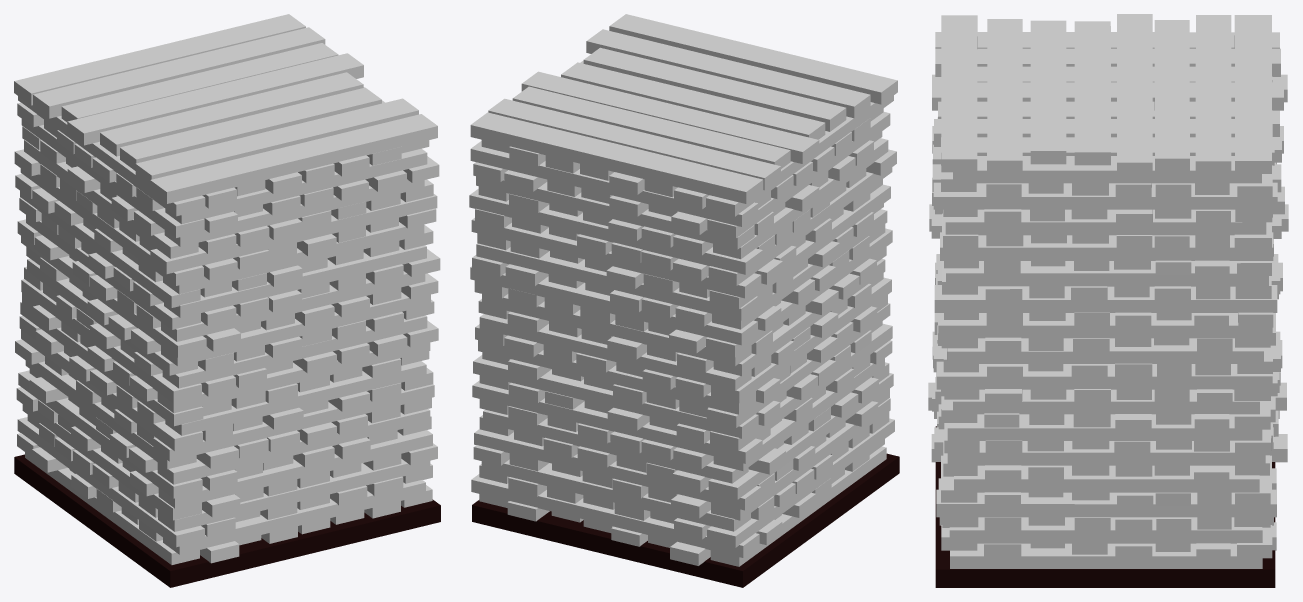
Rendered from culuster_tahta.fbx.
The picture shows the model from 3 angles, left to right: view 1: azimuth 30°, elevation 25°; view 2: azimuth 150°, elevation 25°; view 3: azimuth 270°, elevation 25°; orthographic projection. The views are drawn at different scales.
Visible parts, largest first — view 1: TahtaAlt, tahtaCuluster.255, tahtaCuluster.251, tahtaCuluster.249, tahtaCuluster.254, tahtaCuluster.248, tahtaCuluster.252, tahtaCuluster.253, tahtaCuluster.250, tahtaCuluster.047, tahtaCuluster.095, tahtaCuluster.175 (+51 smaller); view 2: TahtaAlt, tahtaCuluster.248, tahtaCuluster.255, tahtaCuluster.254, tahtaCuluster.251, tahtaCuluster.253, tahtaCuluster.249, tahtaCuluster.250, tahtaCuluster.252, tahtaCuluster.008, tahtaCuluster.088, tahtaCuluster.200 (+49 smaller); view 3: TahtaAlt, tahtaCuluster.248, tahtaCuluster.249, tahtaCuluster.255, tahtaCuluster.251, tahtaCuluster.231, tahtaCuluster.167, tahtaCuluster.254, tahtaCuluster.119, tahtaCuluster.151, tahtaCuluster.039, tahtaCuluster.250 (+86 smaller).
Boxes of the visible parts, x1,y1,x2,y2 form: TahtaAlt: (14, 454, 440, 587); tahtaCuluster.255: (150, 114, 437, 203); tahtaCuluster.251: (67, 53, 363, 145); tahtaCuluster.249: (33, 27, 325, 118); tahtaCuluster.254: (135, 98, 418, 185); tahtaCuluster.248: (14, 14, 305, 105); tahtaCuluster.252: (100, 72, 363, 156); tahtaCuluster.253: (120, 87, 381, 170); tahtaCuluster.250: (61, 43, 338, 122); tahtaCuluster.047: (158, 430, 432, 508); tahtaCuluster.095: (165, 361, 426, 435); tahtaCuluster.175: (164, 245, 426, 317); TahtaAlt: (472, 453, 899, 587); tahtaCuluster.248: (470, 112, 763, 203); tahtaCuluster.255: (609, 14, 897, 104); tahtaCuluster.254: (586, 29, 870, 118); tahtaCuluster.251: (521, 71, 819, 163); tahtaCuluster.253: (583, 47, 846, 131); tahtaCuluster.249: (488, 98, 780, 190); tahtaCuluster.250: (512, 86, 790, 168); tahtaCuluster.252: (561, 62, 825, 139); tahtaCuluster.008: (471, 474, 759, 557); tahtaCuluster.088: (473, 355, 758, 438); tahtaCuluster.200: (469, 189, 762, 274); TahtaAlt: (935, 426, 1275, 587); tahtaCuluster.248: (1234, 15, 1271, 173); tahtaCuluster.249: (1195, 15, 1231, 174); tahtaCuluster.255: (941, 15, 977, 172); tahtaCuluster.251: (1117, 14, 1152, 175); tahtaCuluster.231: (933, 182, 1277, 209); tahtaCuluster.167: (934, 285, 1277, 312); tahtaCuluster.254: (987, 19, 1022, 173); tahtaCuluster.119: (936, 361, 1272, 389); tahtaCuluster.151: (938, 313, 1272, 338); tahtaCuluster.039: (936, 489, 1276, 517); tahtaCuluster.250: (1154, 20, 1189, 171).
Bounding box in the file's own units: 211 × 279 × 212.
